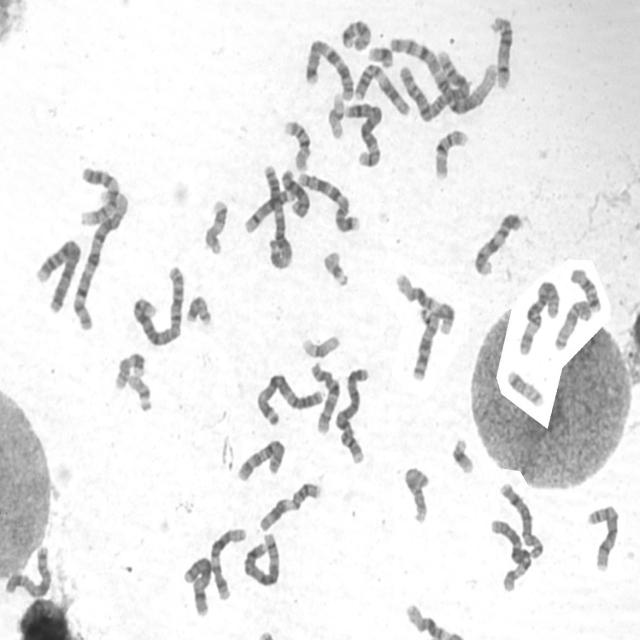A1: (386, 32, 499, 118), (70, 186, 132, 332)
A2: (394, 41, 476, 122), (129, 260, 186, 349)
A3: (253, 368, 326, 429), (260, 160, 294, 270)
B4: (32, 234, 84, 315), (333, 363, 372, 465)
B5: (341, 98, 384, 169), (240, 529, 281, 588)
C10: (307, 358, 342, 435), (234, 435, 287, 484)
C11: (255, 477, 324, 534), (352, 59, 412, 117)
C12: (392, 268, 457, 336), (207, 523, 248, 602)
C6: (487, 514, 534, 594), (516, 276, 562, 357)
C7: (294, 167, 362, 234), (302, 34, 356, 102)
C8: (496, 476, 546, 560), (2, 541, 52, 600)
C9: (470, 209, 524, 278), (76, 162, 122, 227)
D13: (408, 303, 441, 383), (278, 165, 310, 219)
D14: (241, 185, 293, 235), (487, 11, 515, 90)
D15: (550, 296, 594, 352), (401, 462, 432, 525)
E16: (431, 124, 471, 181), (280, 115, 312, 172)
E17: (200, 194, 230, 256), (112, 349, 147, 392)
E18: (567, 264, 603, 314), (338, 16, 373, 52)
F19: (298, 330, 341, 360), (324, 88, 347, 141)
F20: (503, 366, 546, 409), (183, 291, 214, 328)
G21: (448, 434, 476, 476), (365, 42, 395, 69)
G22: (320, 246, 351, 288), (125, 372, 154, 414)
X: (179, 552, 214, 619)
